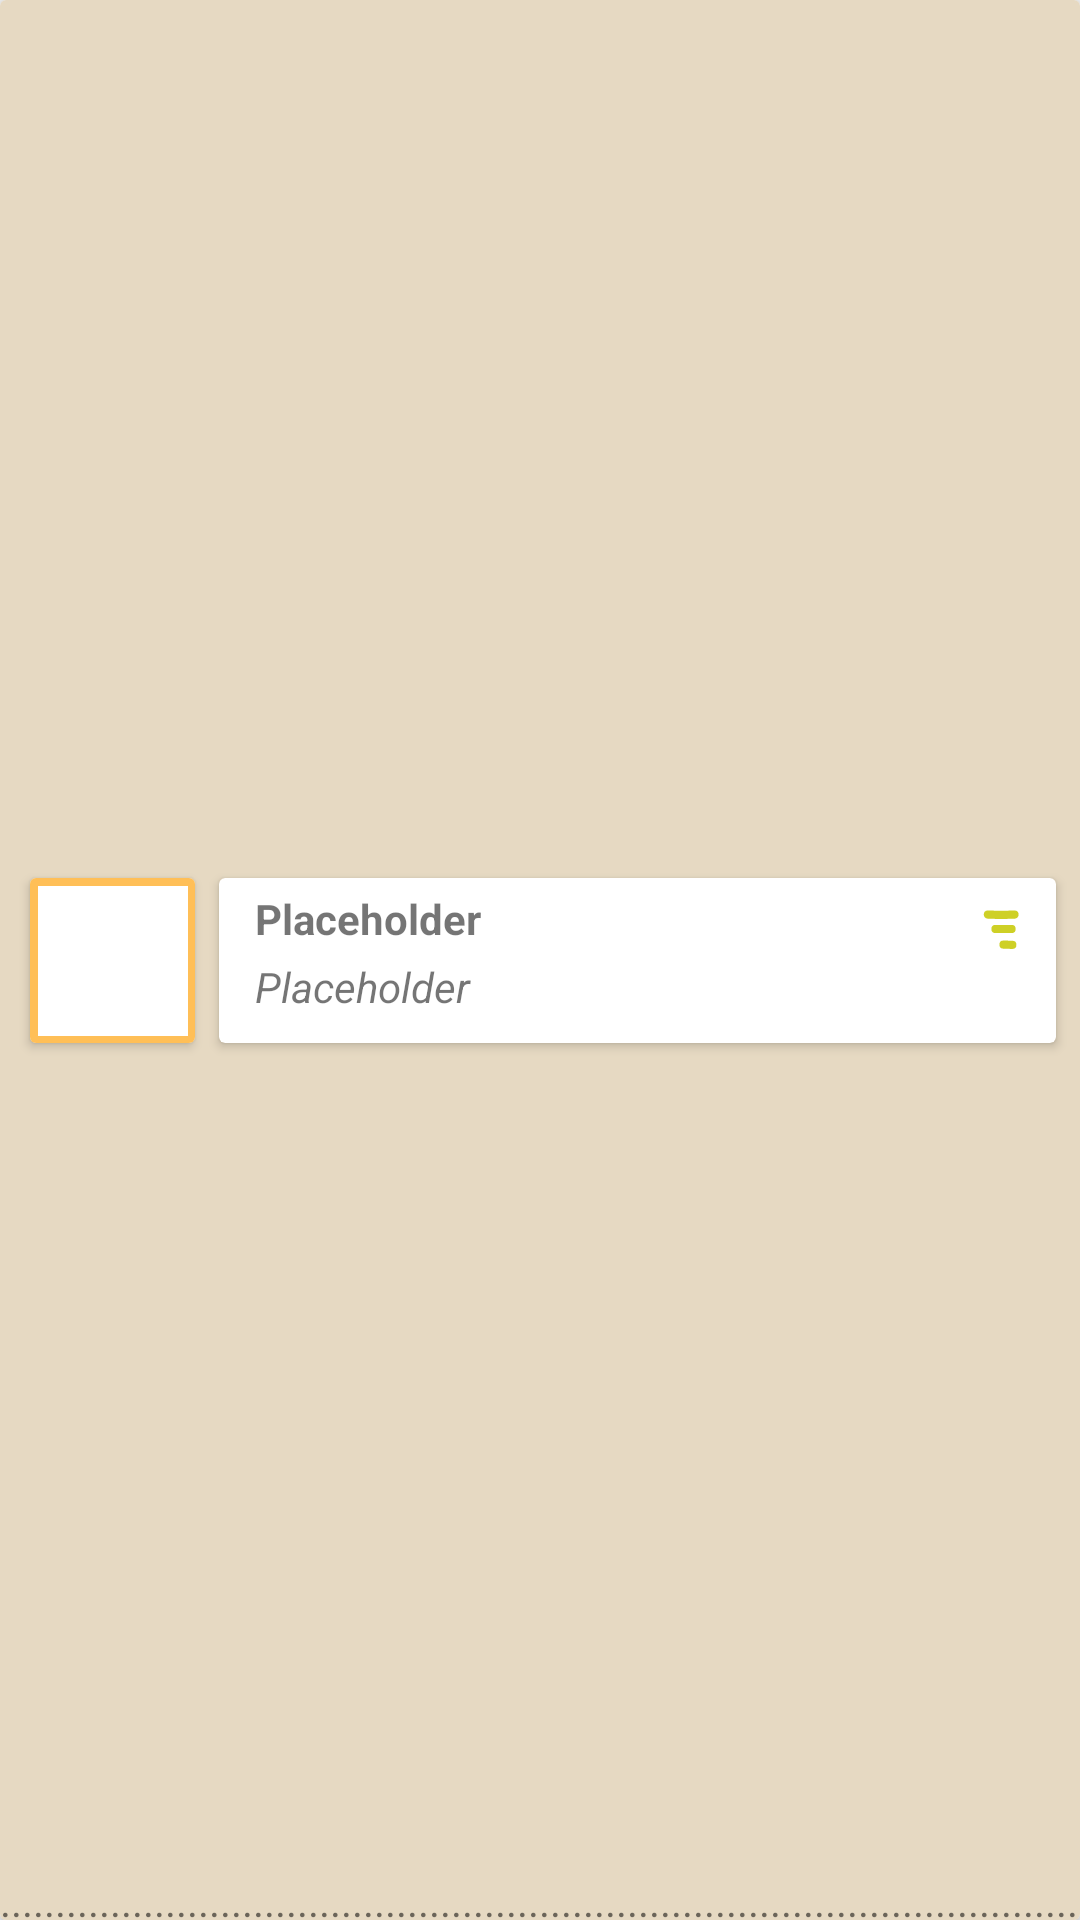

Icon click points for this 1080*1920 phone screenshot, format (x=x, y=y):
list dropdown: (x=1001, y=929)
